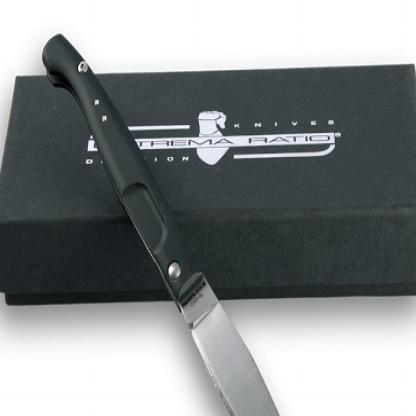knife: (155, 231, 338, 415)
